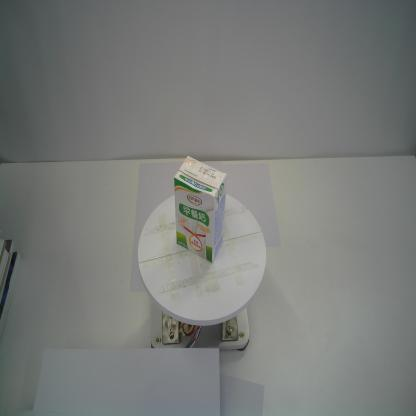Milk: (173, 155, 228, 264)
